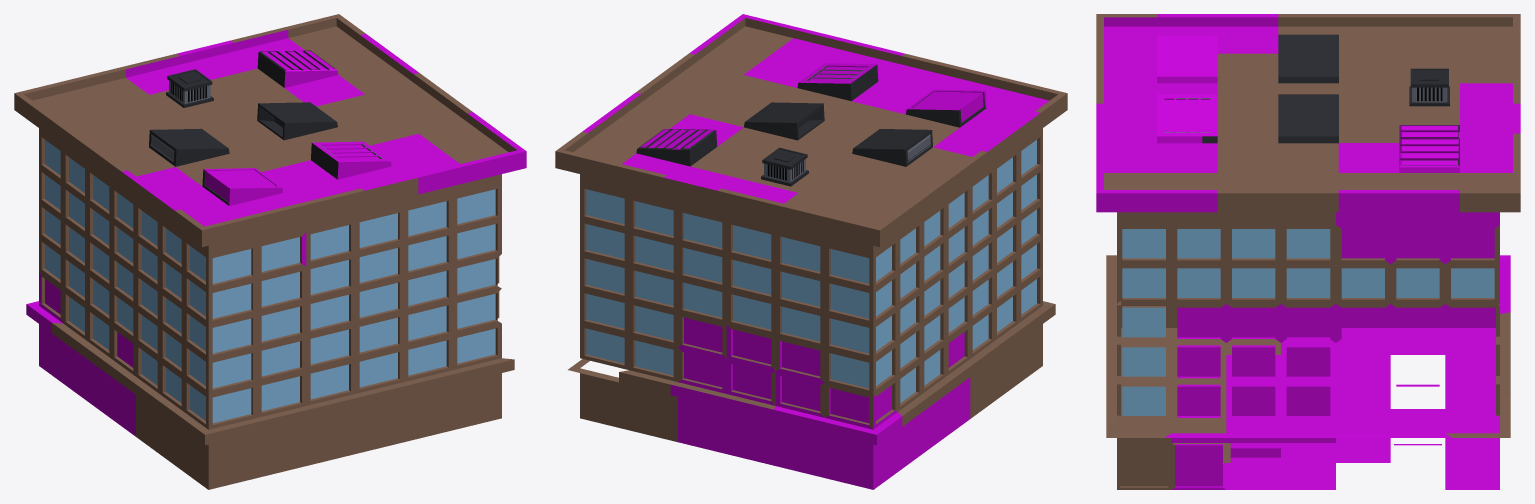
The picture shows the model from 3 angles, left to right: view 1: azimuth 30°, elevation 25°; view 2: azimuth 150°, elevation 25°; view 3: azimuth 270°, elevation 25°; orthographic projection. The views are drawn at different scales.
Parts seen in each view (by area): view 1: EdificioGrande.001; view 2: EdificioGrande.001; view 3: EdificioGrande.001.
Boxes of the visible parts, x1,y1,x2,y2 form: EdificioGrande.001: (14, 14, 526, 489); EdificioGrande.001: (555, 14, 1067, 489); EdificioGrande.001: (1096, 14, 1520, 489).
Bounding box in the file's own units: 2554 × 2114 × 2554.
